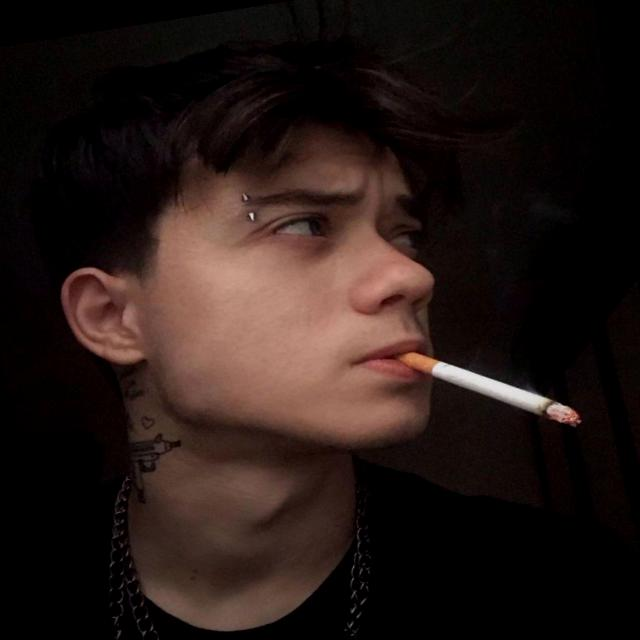cigarette: (356, 284, 638, 462)
